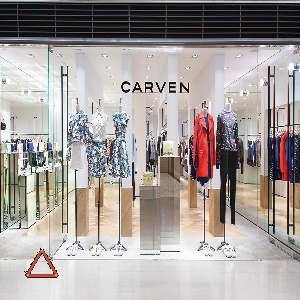triangle: (21, 245, 63, 282)
